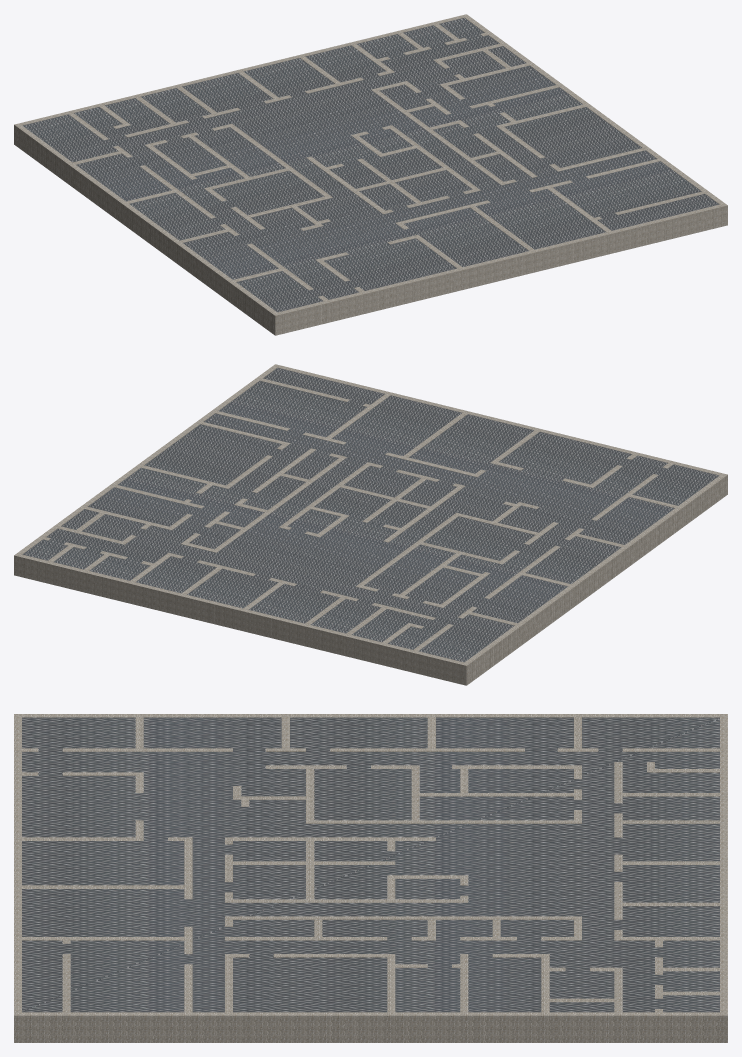
File: map.fbx
The picture shows the model from 3 angles, top to bottom: view 1: azimuth 30°, elevation 25°; view 2: azimuth 150°, elevation 25°; view 3: azimuth 270°, elevation 25°; orthographic projection. The views are drawn at different scales.
Visible parts, largest first — view 1: Ceiling, Walls; view 2: Ceiling, Walls; view 3: Ceiling, Walls.
Boxes of the visible parts, x1,y1,x2,y2 form: Ceiling: (23,18,719,312); Walls: (14,14,727,335); Ceiling: (22,368,718,662); Walls: (14,364,727,685); Ceiling: (22,717,719,1012); Walls: (14,714,727,1042).
Size of the model in its own units: 9767 by 411 by 9767.
